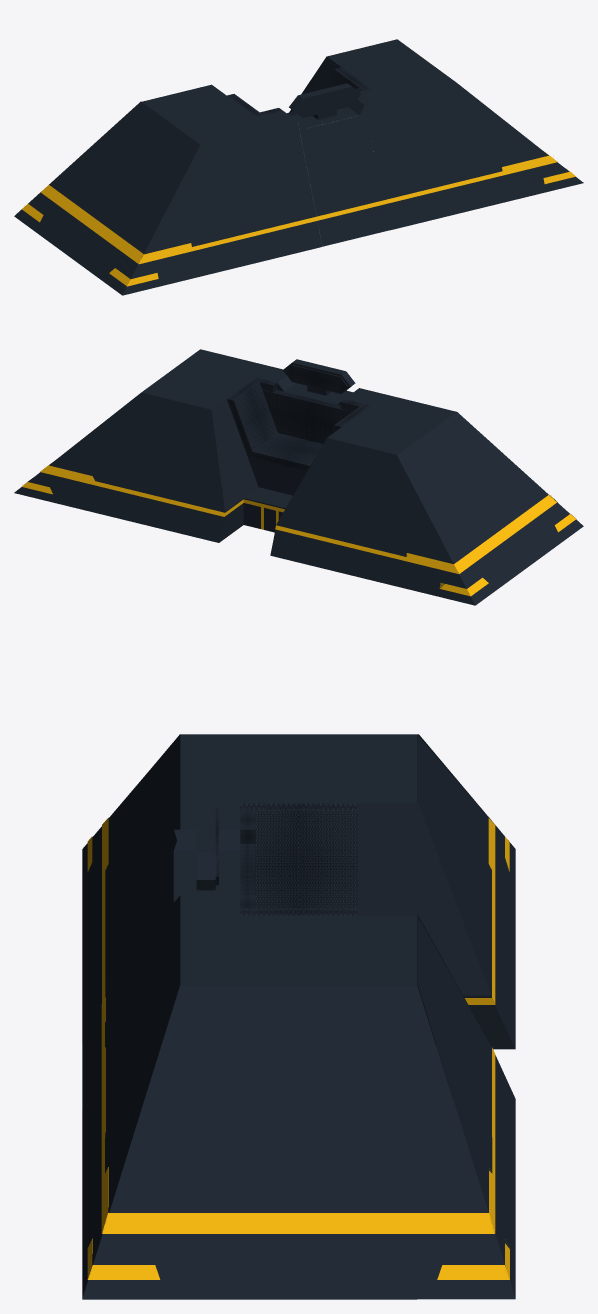
File: clu_throne.obj
3 renders of one model, top to bottom at view 1: azimuth 30°, elevation 25°; view 2: azimuth 150°, elevation 25°; view 3: azimuth 270°, elevation 25°, orthographic. The views are drawn at different scales.
Parts seen in each view (by area): view 1: cube.044, cube.045, cube.039, cube.046, cube.008, cube.013, cube.019, cube.062, cube.022, cube.026, cube.058, cube.057 (+2 smaller); view 2: cube.047, cube.048, cube.039, cube.008, cube.013, cube.036, cube.003, cube.004, cube.002, cube.019, cube.062, cube.022 (+8 smaller); view 3: cube.043, cube.044, cube.045, cube.047, cube.048, cube.008, cube.013, cube.006, cube.005, cube.063, cube.046, cube.022 (+9 smaller).
Part boxes in pixels (bbox=[...]): cube.044: bbox=[122, 121, 322, 295]; cube.045: bbox=[365, 83, 583, 230]; cube.039: bbox=[14, 101, 200, 294]; cube.046: bbox=[298, 105, 389, 246]; cube.008: bbox=[327, 39, 441, 88]; cube.013: bbox=[142, 84, 255, 134]; cube.019: bbox=[186, 110, 297, 144]; cube.062: bbox=[40, 185, 143, 263]; cube.022: bbox=[357, 72, 456, 104]; cube.026: bbox=[298, 83, 352, 117]; cube.058: bbox=[373, 159, 557, 206]; cube.057: bbox=[139, 215, 322, 264]; cube.047: bbox=[14, 392, 225, 542]; cube.048: bbox=[270, 438, 474, 605]; cube.039: bbox=[397, 412, 583, 605]; cube.008: bbox=[141, 360, 255, 409]; cube.013: bbox=[327, 405, 440, 454]; cube.036: bbox=[262, 390, 351, 443]; cube.003: bbox=[211, 380, 258, 511]; cube.004: bbox=[228, 380, 277, 452]; cube.002: bbox=[245, 433, 322, 471]; cube.019: bbox=[345, 388, 456, 422]; cube.062: bbox=[454, 495, 556, 573]; cube.022: bbox=[186, 349, 286, 382]; cube.043: bbox=[82, 984, 515, 1299]; cube.044: bbox=[82, 735, 180, 1043]; cube.045: bbox=[82, 896, 180, 1298]; cube.047: bbox=[417, 916, 515, 1297]; cube.048: bbox=[417, 735, 515, 1048]; cube.008: bbox=[239, 915, 417, 984]; cube.013: bbox=[239, 734, 417, 803]; cube.006: bbox=[357, 803, 490, 995]; cube.005: bbox=[255, 810, 357, 908]; cube.063: bbox=[102, 1213, 494, 1233]; cube.046: bbox=[82, 838, 179, 1107]; cube.022: bbox=[180, 895, 240, 985].
Size of the model in its own units: 2.56 by 0.6621 by 1.04.
